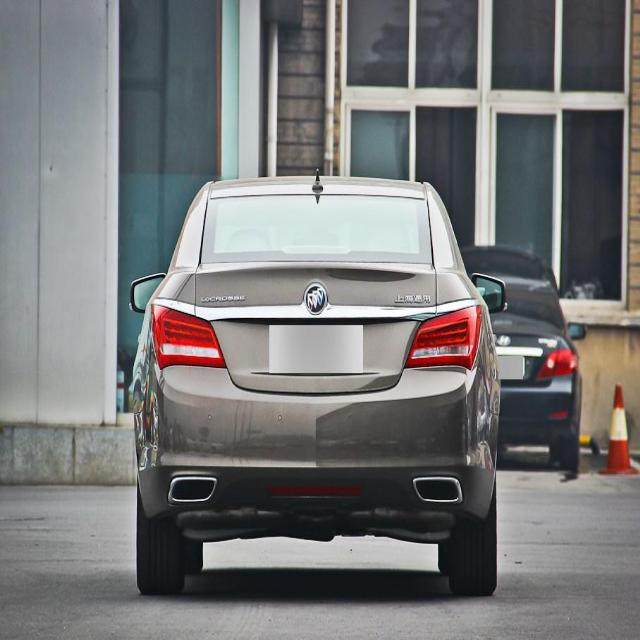back_glass: (198, 190, 436, 267)
back_left_side_light: (148, 301, 228, 371)
back_right_side_light: (403, 303, 485, 370)
front_left_side_mirror: (130, 270, 170, 319)
front_right_side_mirror: (470, 271, 508, 317)
rear_bumper: (132, 362, 501, 522)
wheel: (136, 488, 184, 599), (446, 512, 497, 595)
